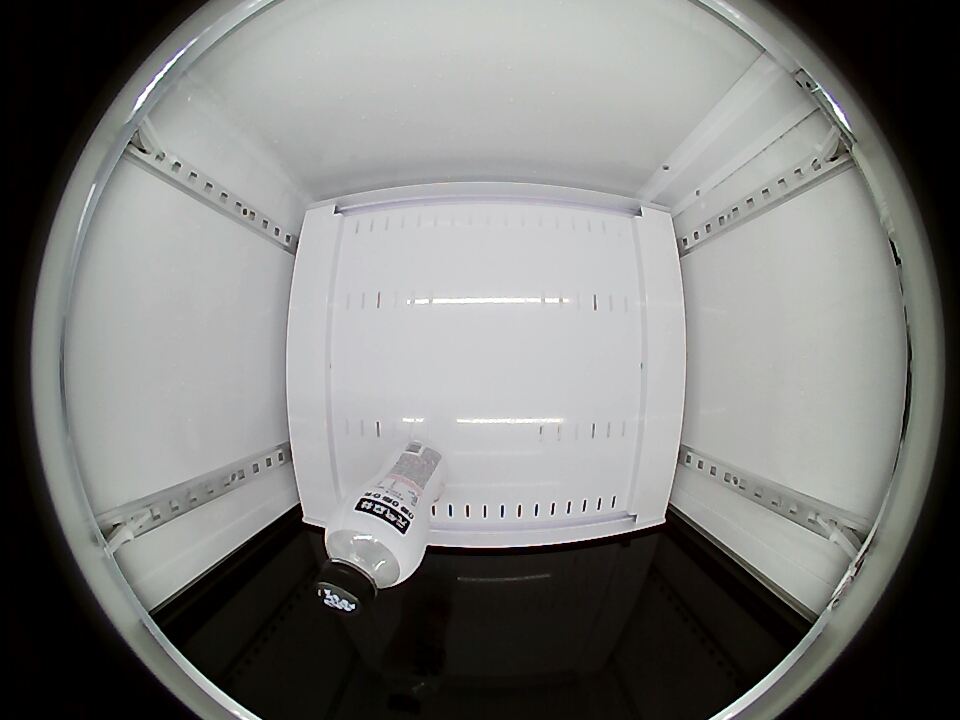yuanqishui: (315, 503, 425, 615)
